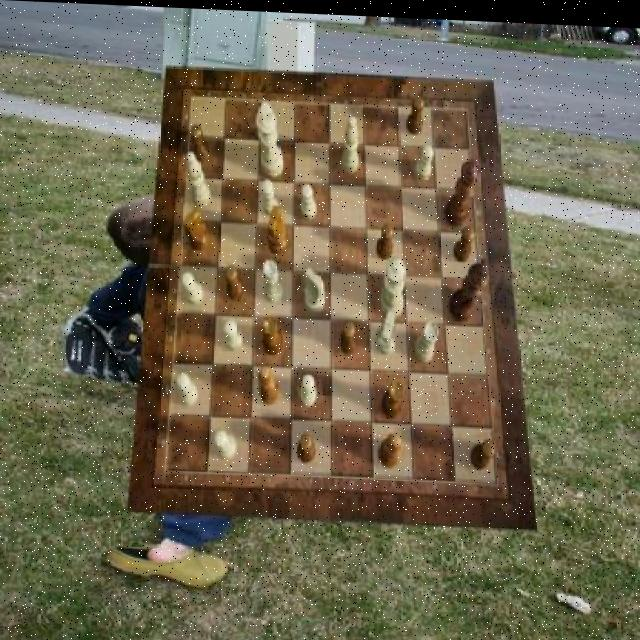bishop: (258, 363, 281, 402), (378, 429, 402, 466)
black-bishop: (449, 252, 489, 319)
black-king: (185, 203, 209, 250), (268, 203, 288, 253)
black-knight: (472, 435, 497, 467), (191, 122, 211, 161), (406, 92, 424, 132), (454, 224, 474, 259), (375, 219, 393, 256), (224, 263, 243, 298), (339, 318, 356, 352), (299, 430, 316, 462)
black-pawn: (445, 156, 480, 226)
black-queen: (382, 377, 404, 415), (262, 314, 282, 354)
black-rook: (186, 150, 211, 205), (342, 114, 359, 172)
white-bishop: (257, 99, 285, 174)
white-king: (304, 264, 326, 311), (377, 307, 397, 352)
white-knight: (181, 269, 204, 304), (177, 371, 199, 405), (416, 141, 436, 177), (214, 427, 237, 457), (224, 317, 244, 349), (262, 177, 279, 214), (299, 370, 316, 405), (300, 181, 317, 216)
white-pawn: (380, 252, 408, 315)
white-queen: (414, 318, 438, 360), (263, 257, 284, 301)
